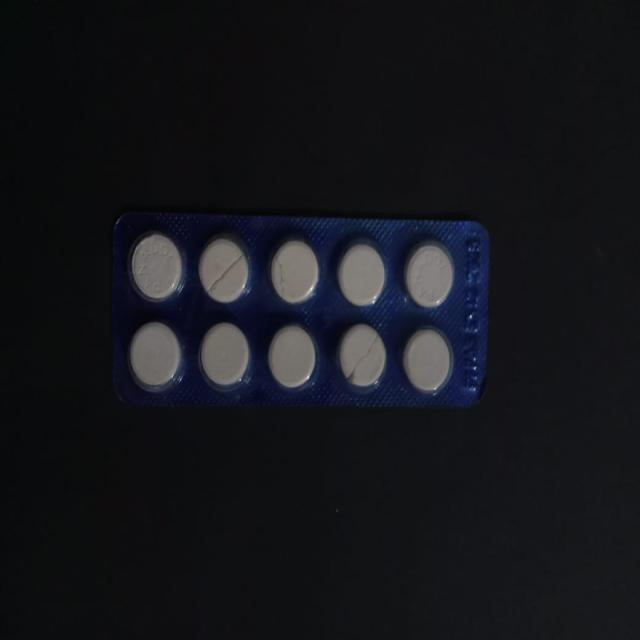defect: (197, 230, 255, 307), (269, 236, 321, 311), (336, 320, 388, 392)
